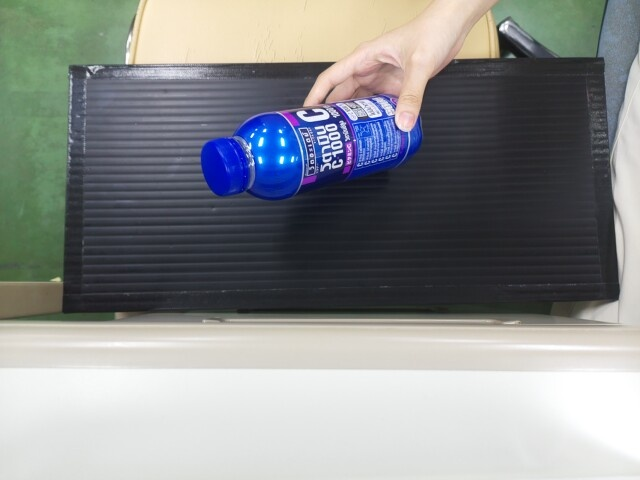plastic_bottle: (200, 107, 400, 195)
